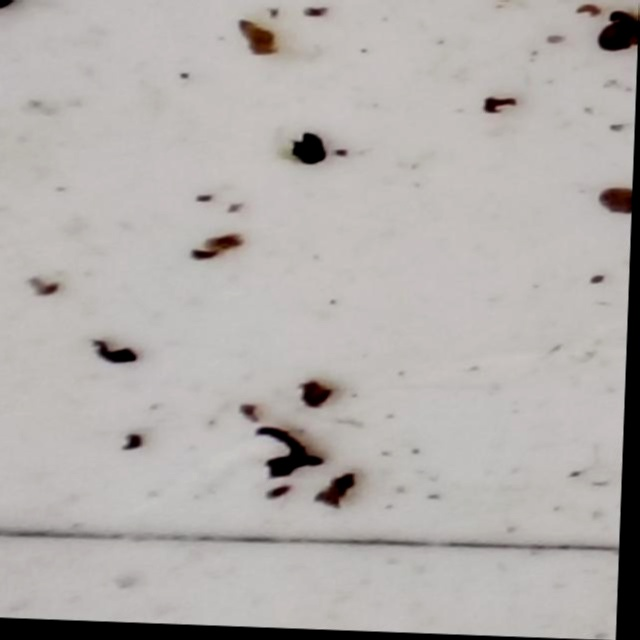varroa: (287, 133, 331, 171)
